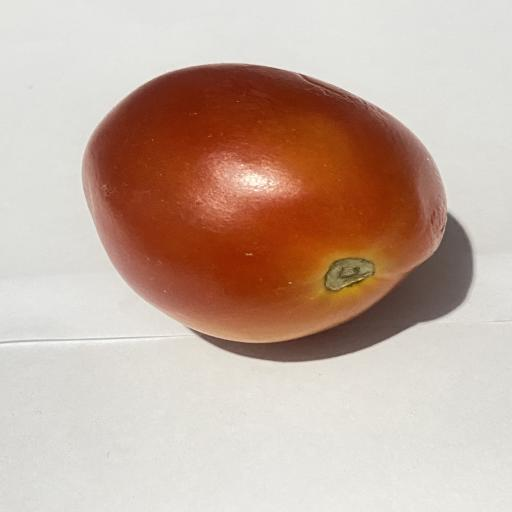overipe: (82, 64, 446, 342)
